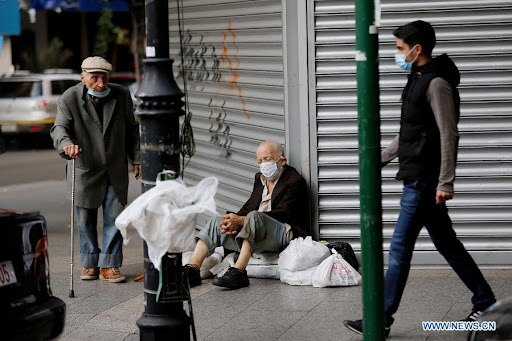with_incorrect_mask: (85, 72, 108, 96)
with_mask: (258, 150, 279, 179), (395, 42, 412, 70)
